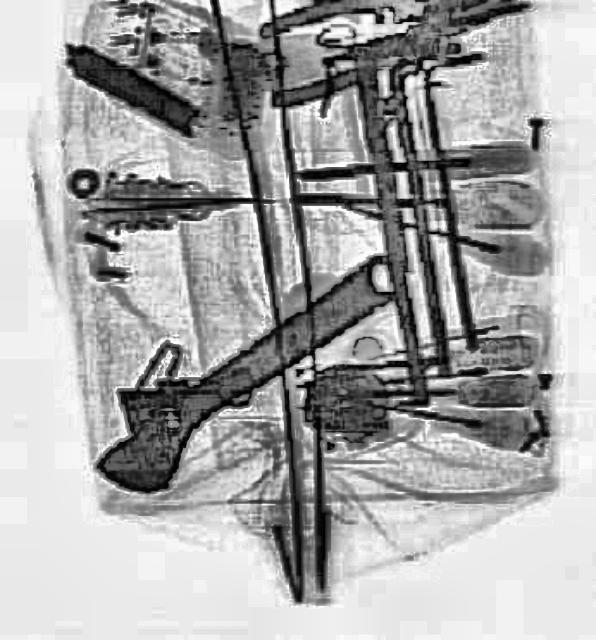Pliers: (258, 0, 517, 101)
Wrench: (62, 217, 431, 515)
